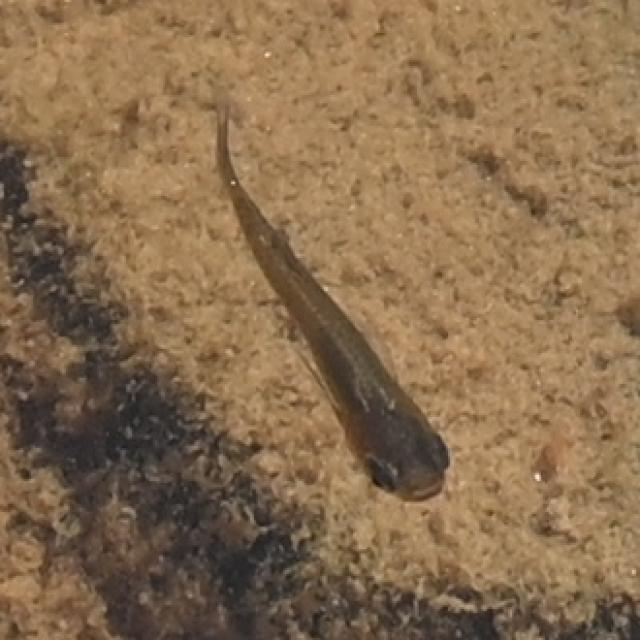Sivrisinek Baligi: (206, 95, 454, 506)
